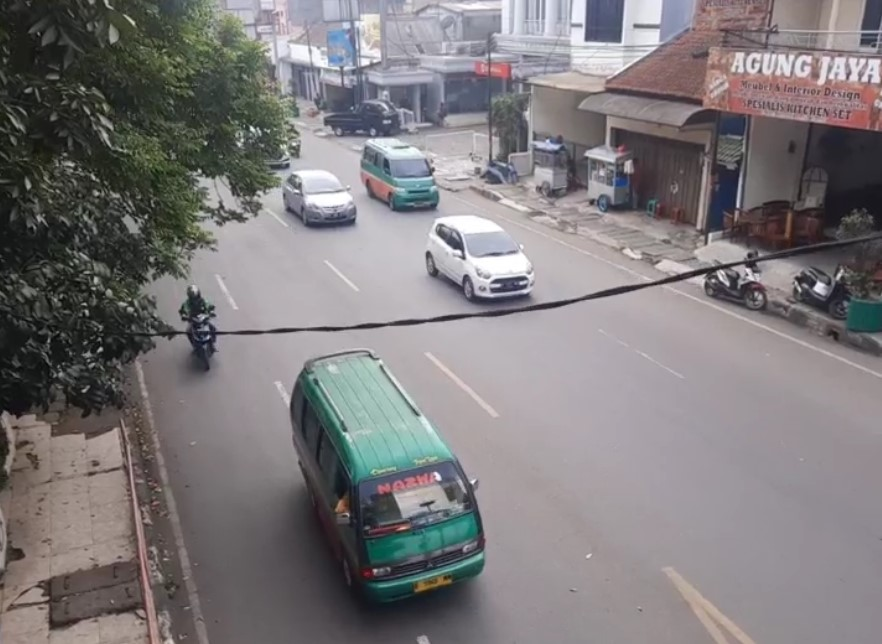mobil: (284, 353, 495, 598), (421, 217, 542, 303), (358, 138, 443, 211), (282, 171, 358, 231)
motor: (175, 287, 229, 371)
